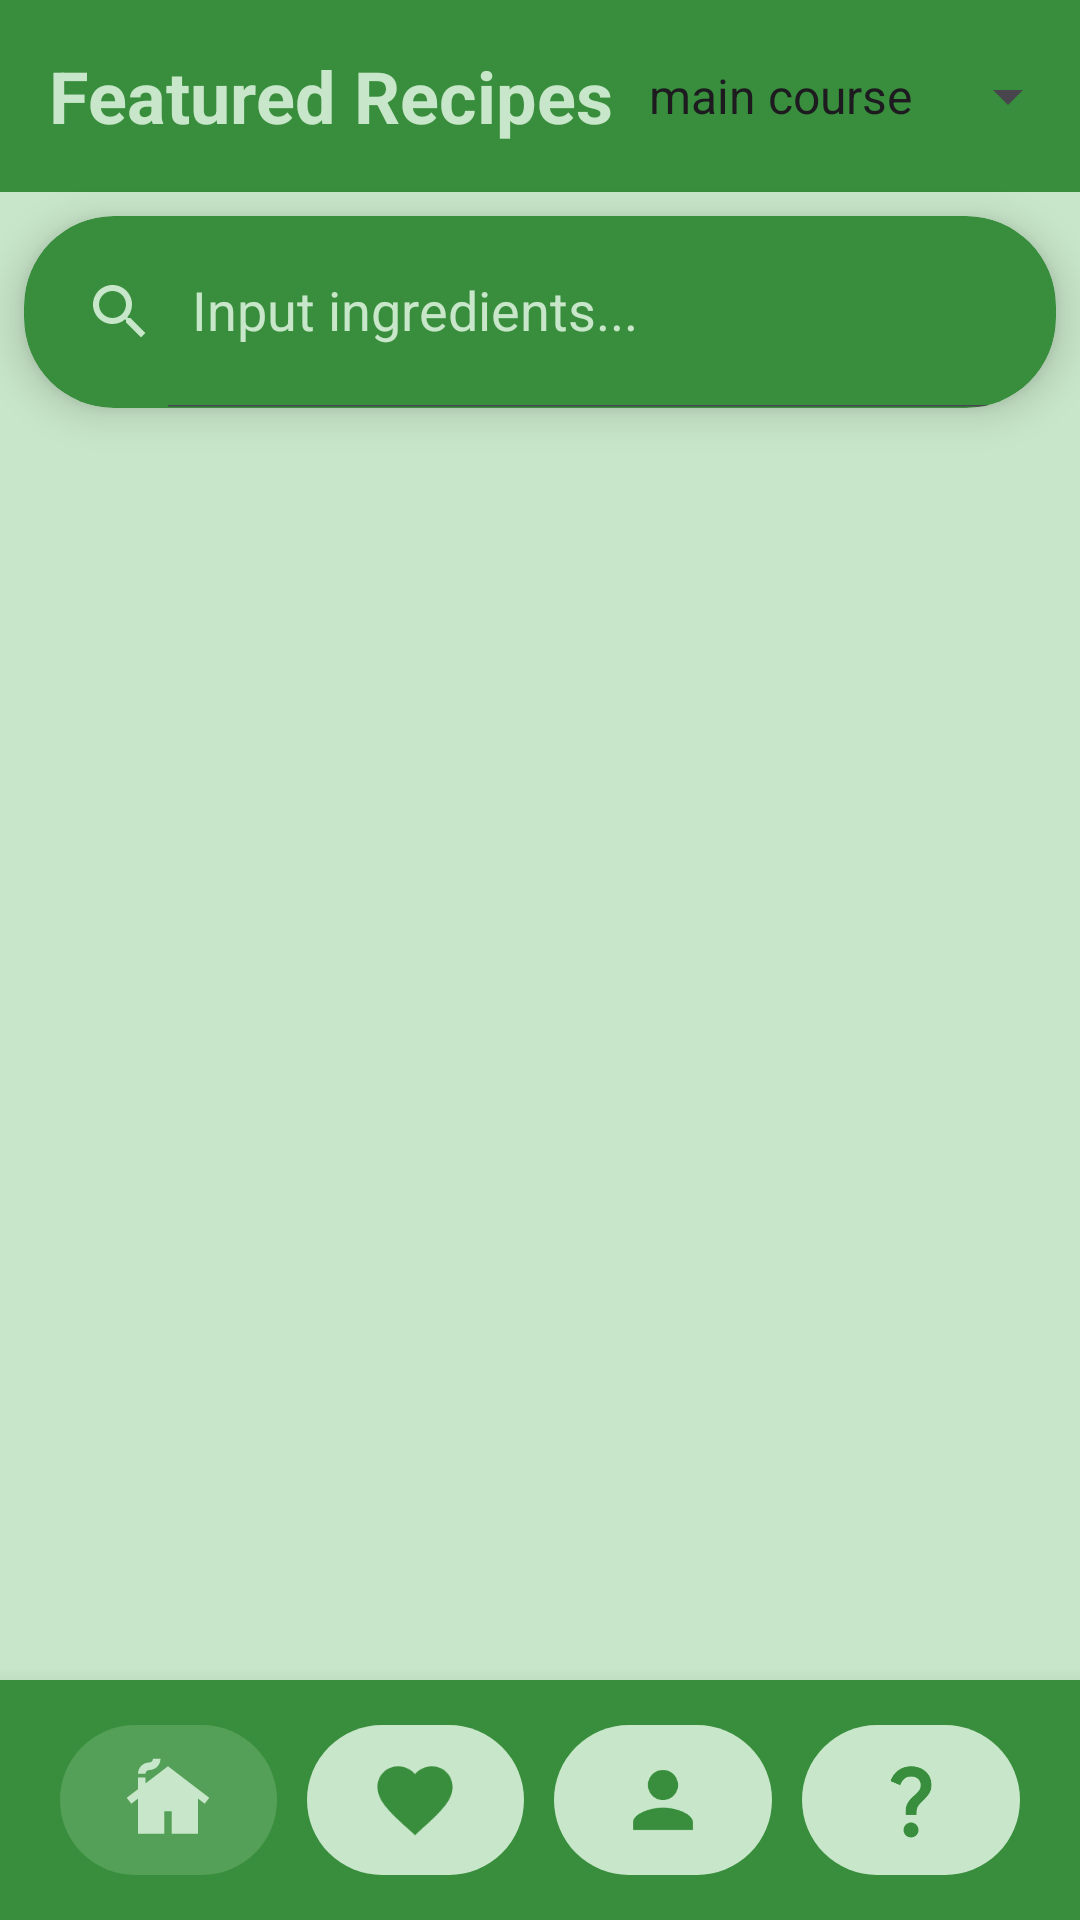

Named icons in this screenshot (1080 x 1920) and their centers, (x,y):
about: (911,1802)
favorite: (415,1800)
home clicked: (168,1796)
profile: (663,1800)
